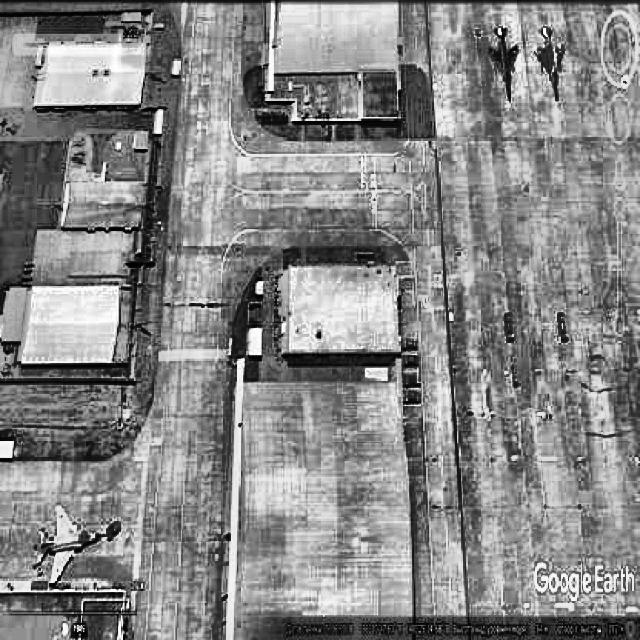F4: (35, 503, 100, 585), (532, 26, 565, 102), (487, 24, 519, 102)
